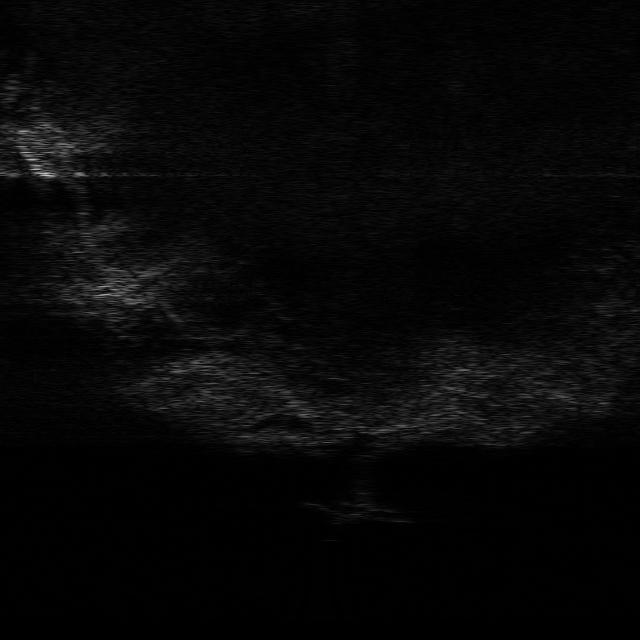plane: (300, 496, 412, 525)
